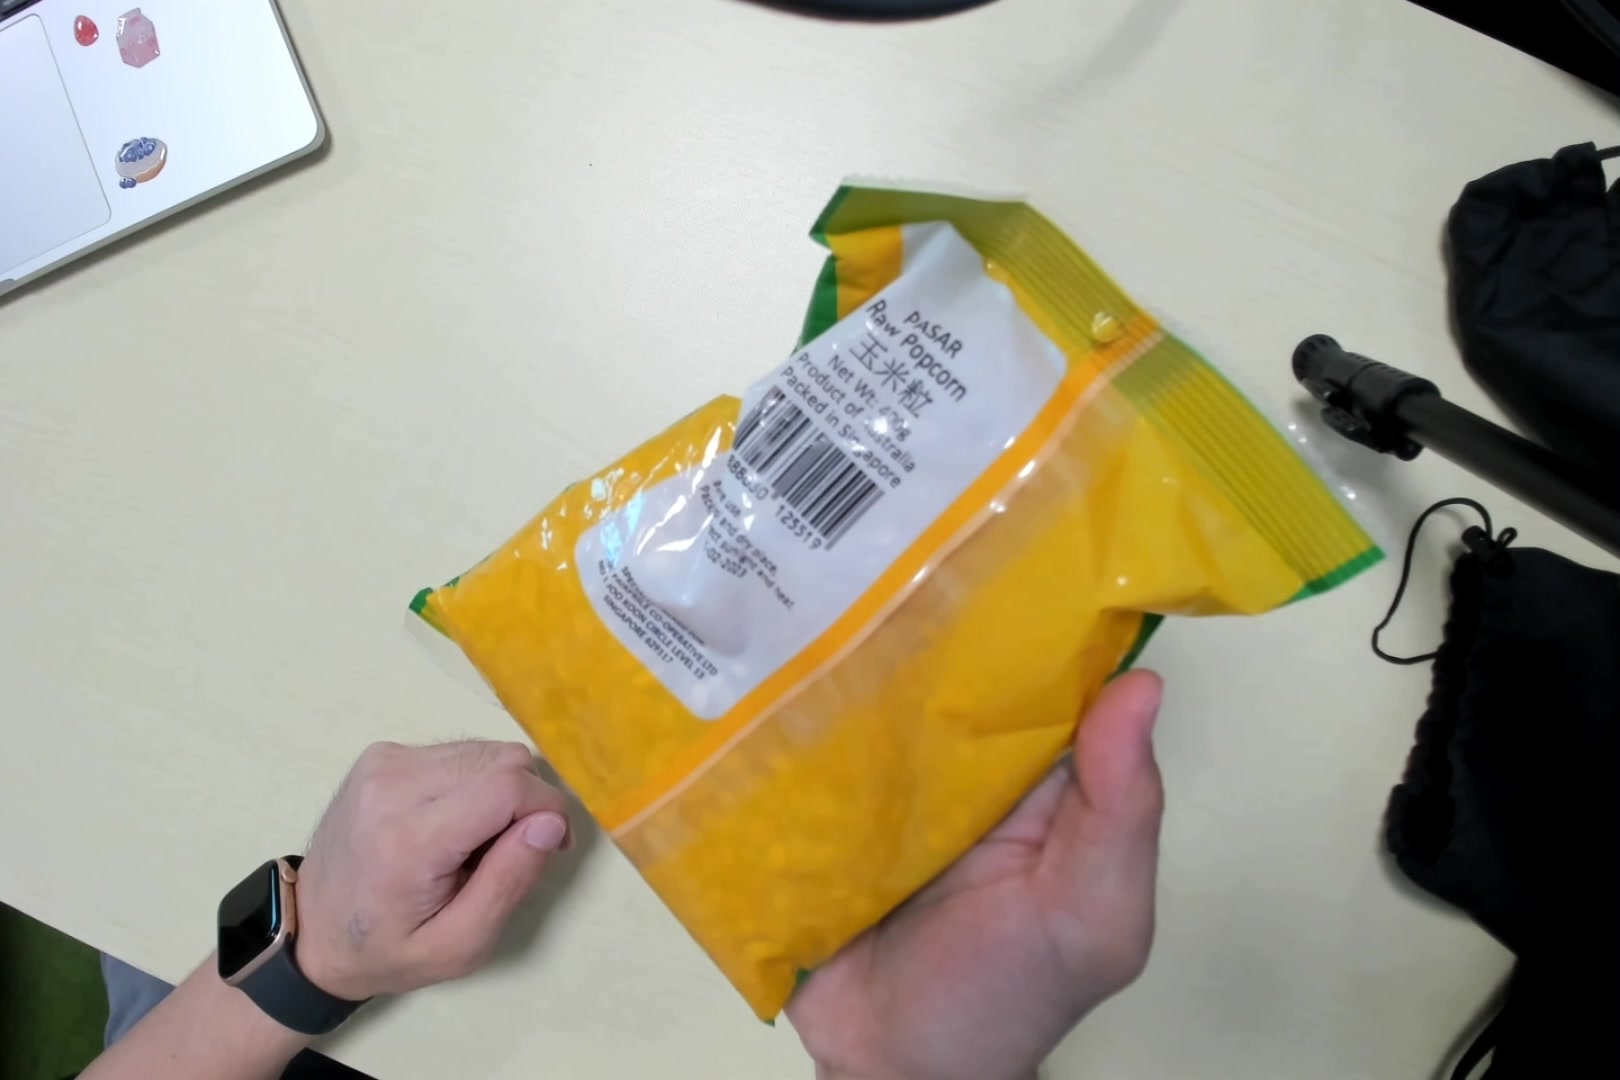DriedBeans(RedGreenSdy)_400-499g_NonHalal_NonHealthy: (494, 210, 1316, 933)
